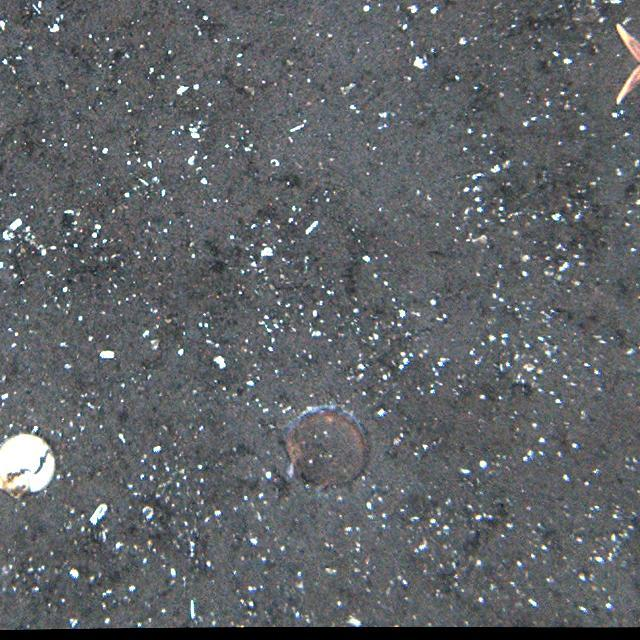scallop: (275, 397, 369, 485)
